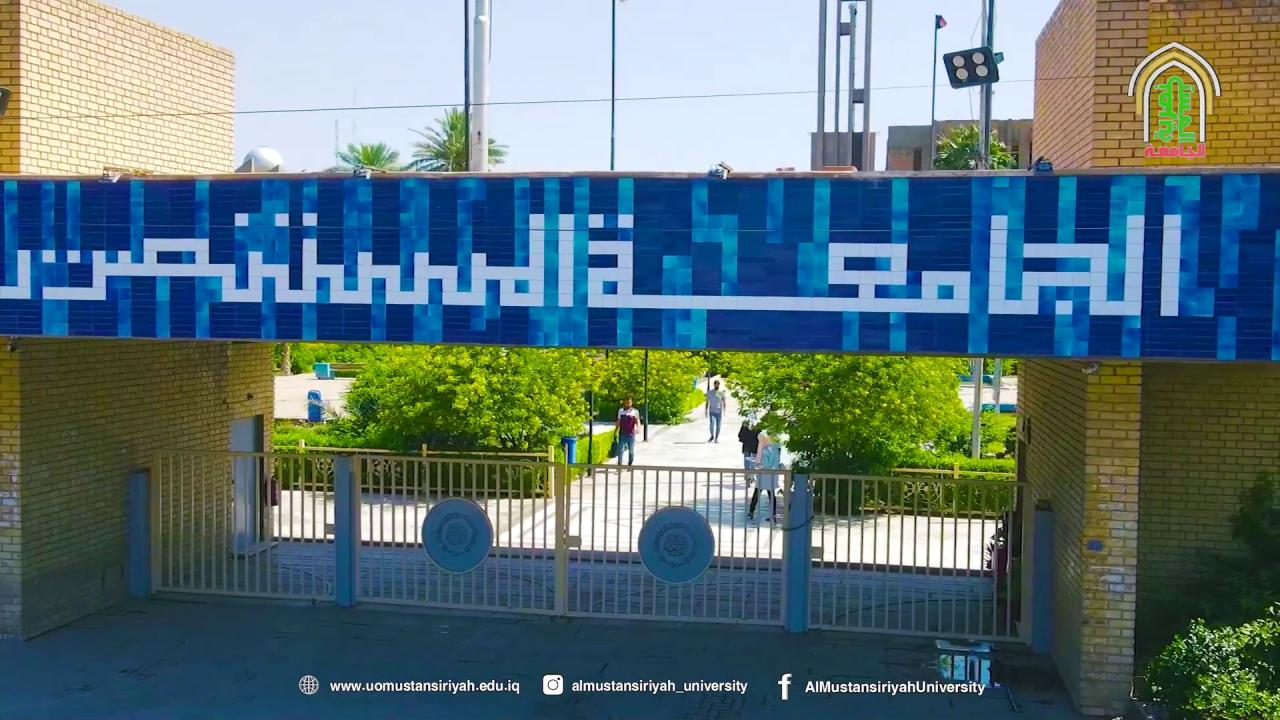fountain: (234, 144, 284, 172)
person: (746, 430, 780, 521), (614, 397, 641, 466), (738, 419, 759, 486), (704, 380, 725, 443)
tree: (712, 350, 985, 514), (340, 343, 606, 497), (931, 121, 1018, 459), (1136, 600, 1278, 718), (405, 105, 507, 172), (1226, 471, 1279, 566), (931, 122, 1017, 170), (335, 141, 399, 172)
